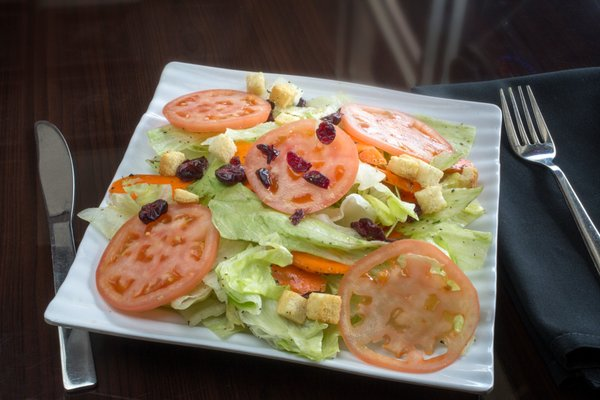burger: (498, 83, 600, 281)
